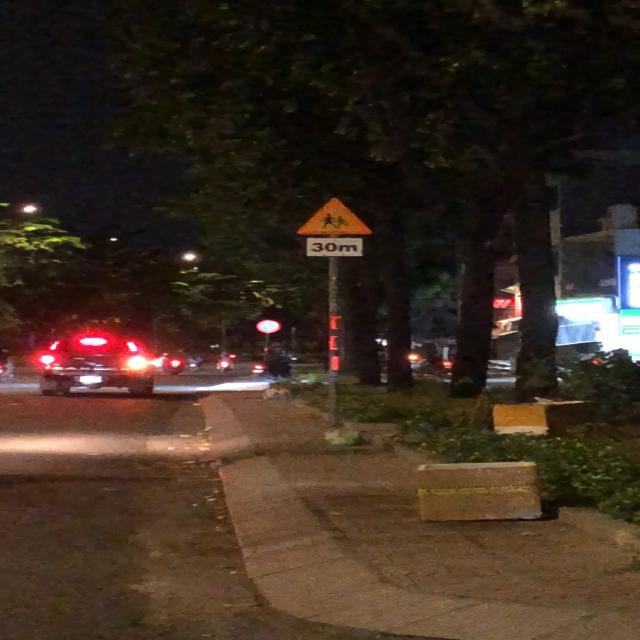Bien bao tre em: (294, 198, 374, 236)
